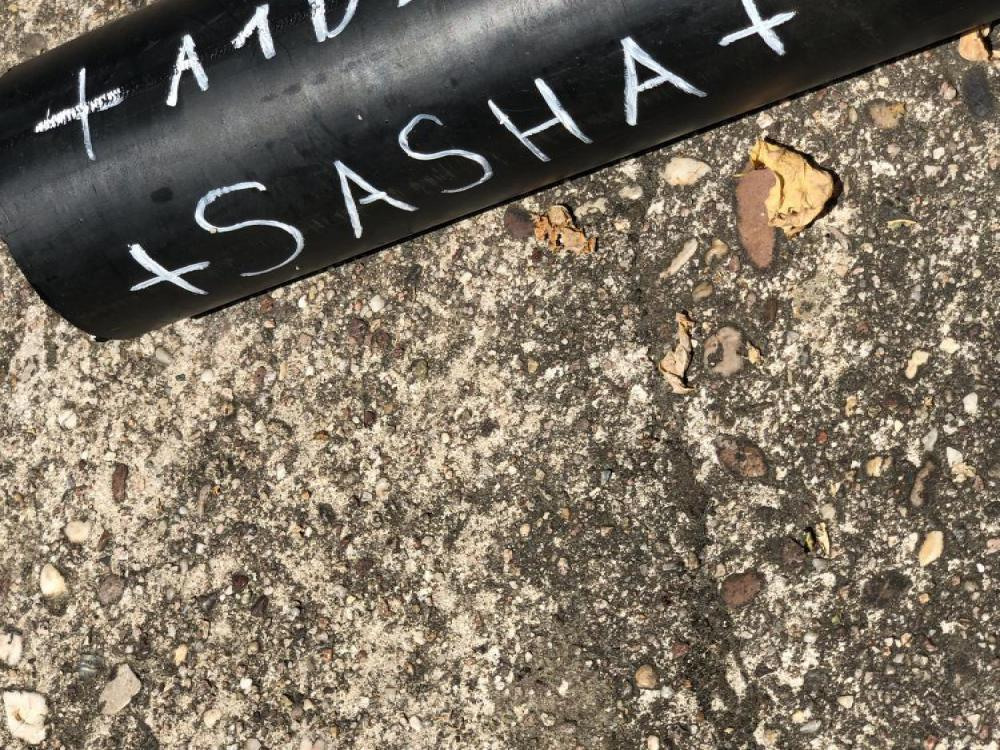+: (37, 68, 123, 161), (126, 244, 209, 296), (720, 0, 796, 56)
1: (234, 4, 280, 59)
A: (622, 36, 706, 127), (332, 159, 414, 238), (166, 34, 212, 108)
H: (486, 78, 594, 164)
S: (192, 181, 304, 279), (397, 114, 496, 195)
